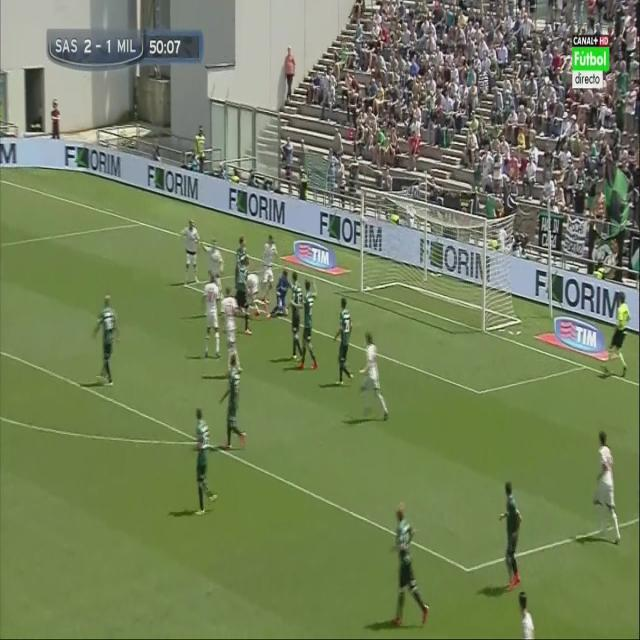Goalkeeper: (267, 266, 291, 323)
Player: (391, 496, 431, 632), (592, 429, 626, 550), (358, 328, 391, 427), (497, 478, 524, 594), (191, 405, 218, 519), (92, 292, 121, 392), (220, 356, 246, 454), (298, 277, 321, 373), (332, 296, 355, 388), (201, 276, 224, 360), (174, 220, 202, 286), (235, 254, 255, 339), (288, 272, 304, 368), (260, 236, 283, 302), (220, 286, 240, 354), (516, 588, 537, 640), (203, 233, 224, 283), (236, 238, 249, 260)
Referee: (600, 289, 634, 381)
